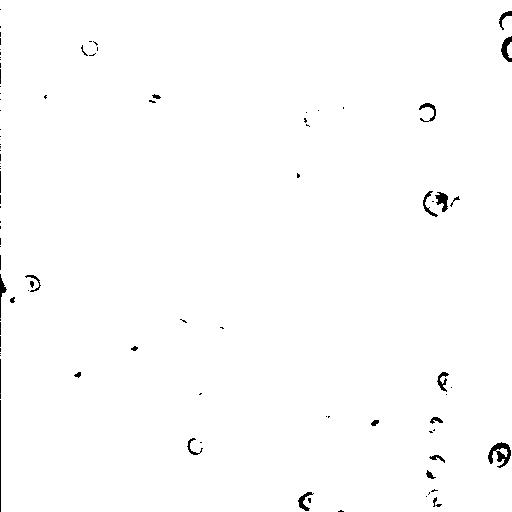micro-algae: (57, 422, 122, 489), (373, 15, 412, 57), (431, 179, 471, 218), (356, 403, 393, 439), (177, 256, 209, 287), (37, 77, 63, 107), (485, 440, 511, 470), (421, 189, 448, 217), (189, 381, 213, 411), (163, 315, 191, 340), (281, 161, 309, 186), (423, 487, 452, 511), (300, 103, 324, 131), (421, 452, 447, 477), (11, 35, 39, 57), (1, 291, 27, 314), (68, 361, 90, 388), (297, 489, 324, 510), (122, 337, 145, 361), (333, 101, 355, 125), (434, 369, 455, 393), (415, 101, 437, 122), (20, 273, 42, 292), (499, 35, 512, 65), (80, 38, 99, 57), (187, 437, 205, 456), (499, 7, 511, 33), (426, 415, 443, 433), (1, 276, 9, 304), (451, 195, 464, 211)
